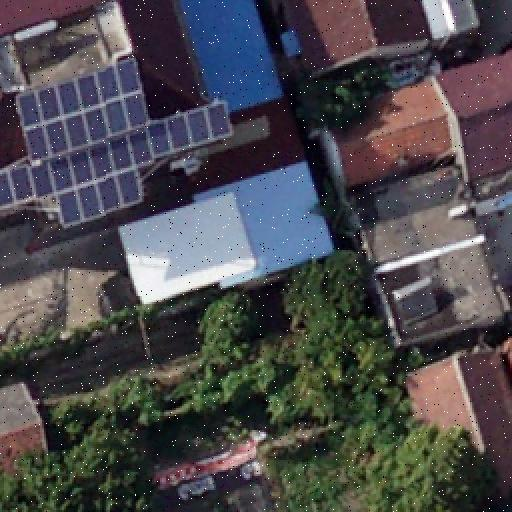solar-panel: (0, 60, 232, 232)
